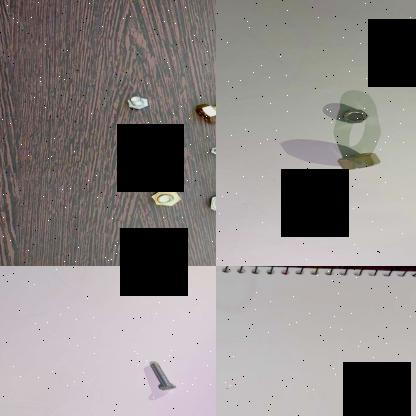Bolts: (144, 360, 178, 394), (190, 89, 216, 125), (150, 185, 184, 211), (117, 93, 151, 110), (134, 141, 160, 161), (206, 191, 216, 217), (205, 143, 216, 156)
NUTS: (331, 145, 395, 175), (332, 98, 374, 127), (346, 400, 386, 416)
